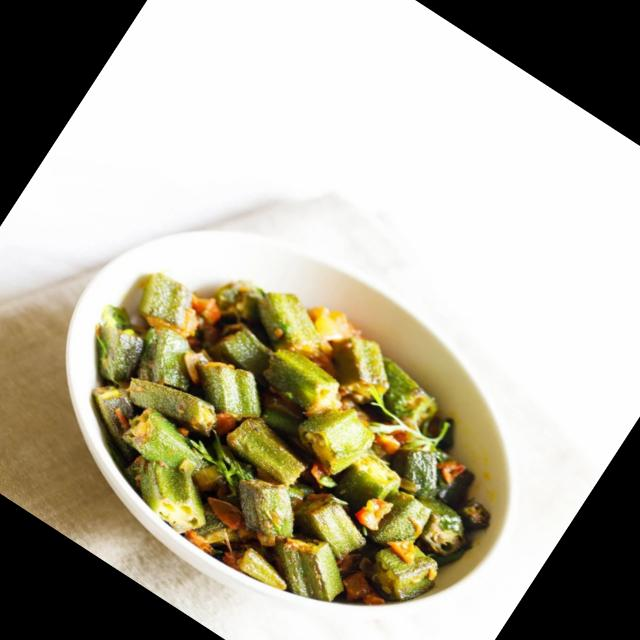BhindiMasala: (26, 205, 543, 640)
